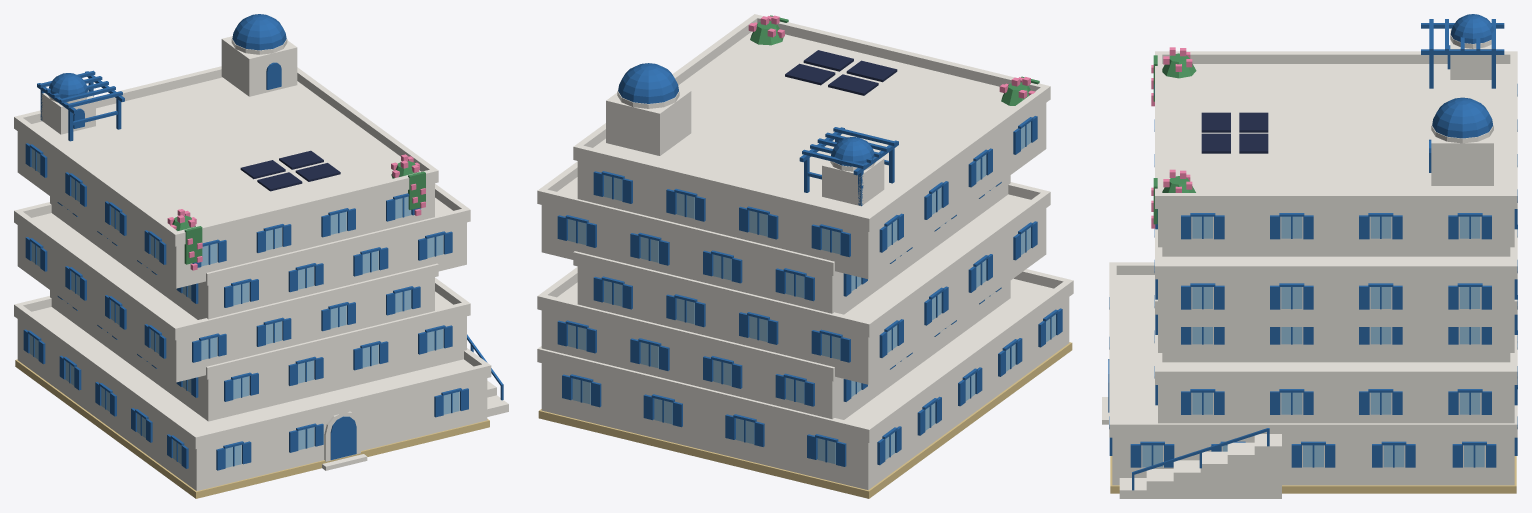
File: house-2x2-5f-aegean-a-solar.glb
The picture shows the model from 3 angles, left to right: view 1: azimuth 30°, elevation 25°; view 2: azimuth 150°, elevation 25°; view 3: azimuth 270°, elevation 25°; orthographic projection. The views are drawn at different scales.
Parts seen in each view (by area): view 1: house-2x2-5f-aegean-a-solar; view 2: house-2x2-5f-aegean-a-solar; view 3: house-2x2-5f-aegean-a-solar.
Part boxes in pixels (x1,y1,x2,y2): house-2x2-5f-aegean-a-solar: (14, 14, 508, 498); house-2x2-5f-aegean-a-solar: (537, 14, 1073, 498); house-2x2-5f-aegean-a-solar: (1102, 14, 1517, 498).
Bounding box in the file's own units: 1.99 × 1.87 × 2.
1 material, 1 textured.
